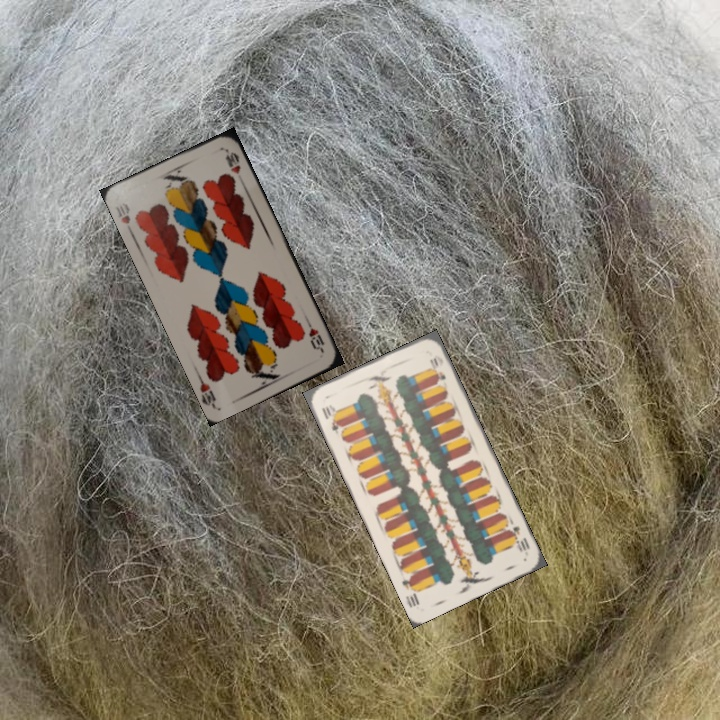E10: (504, 522, 533, 555), (318, 402, 343, 436)
H10: (303, 317, 327, 355), (112, 199, 136, 237)
